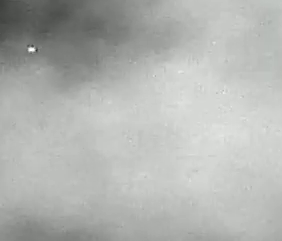Target: (29, 48, 36, 52)
